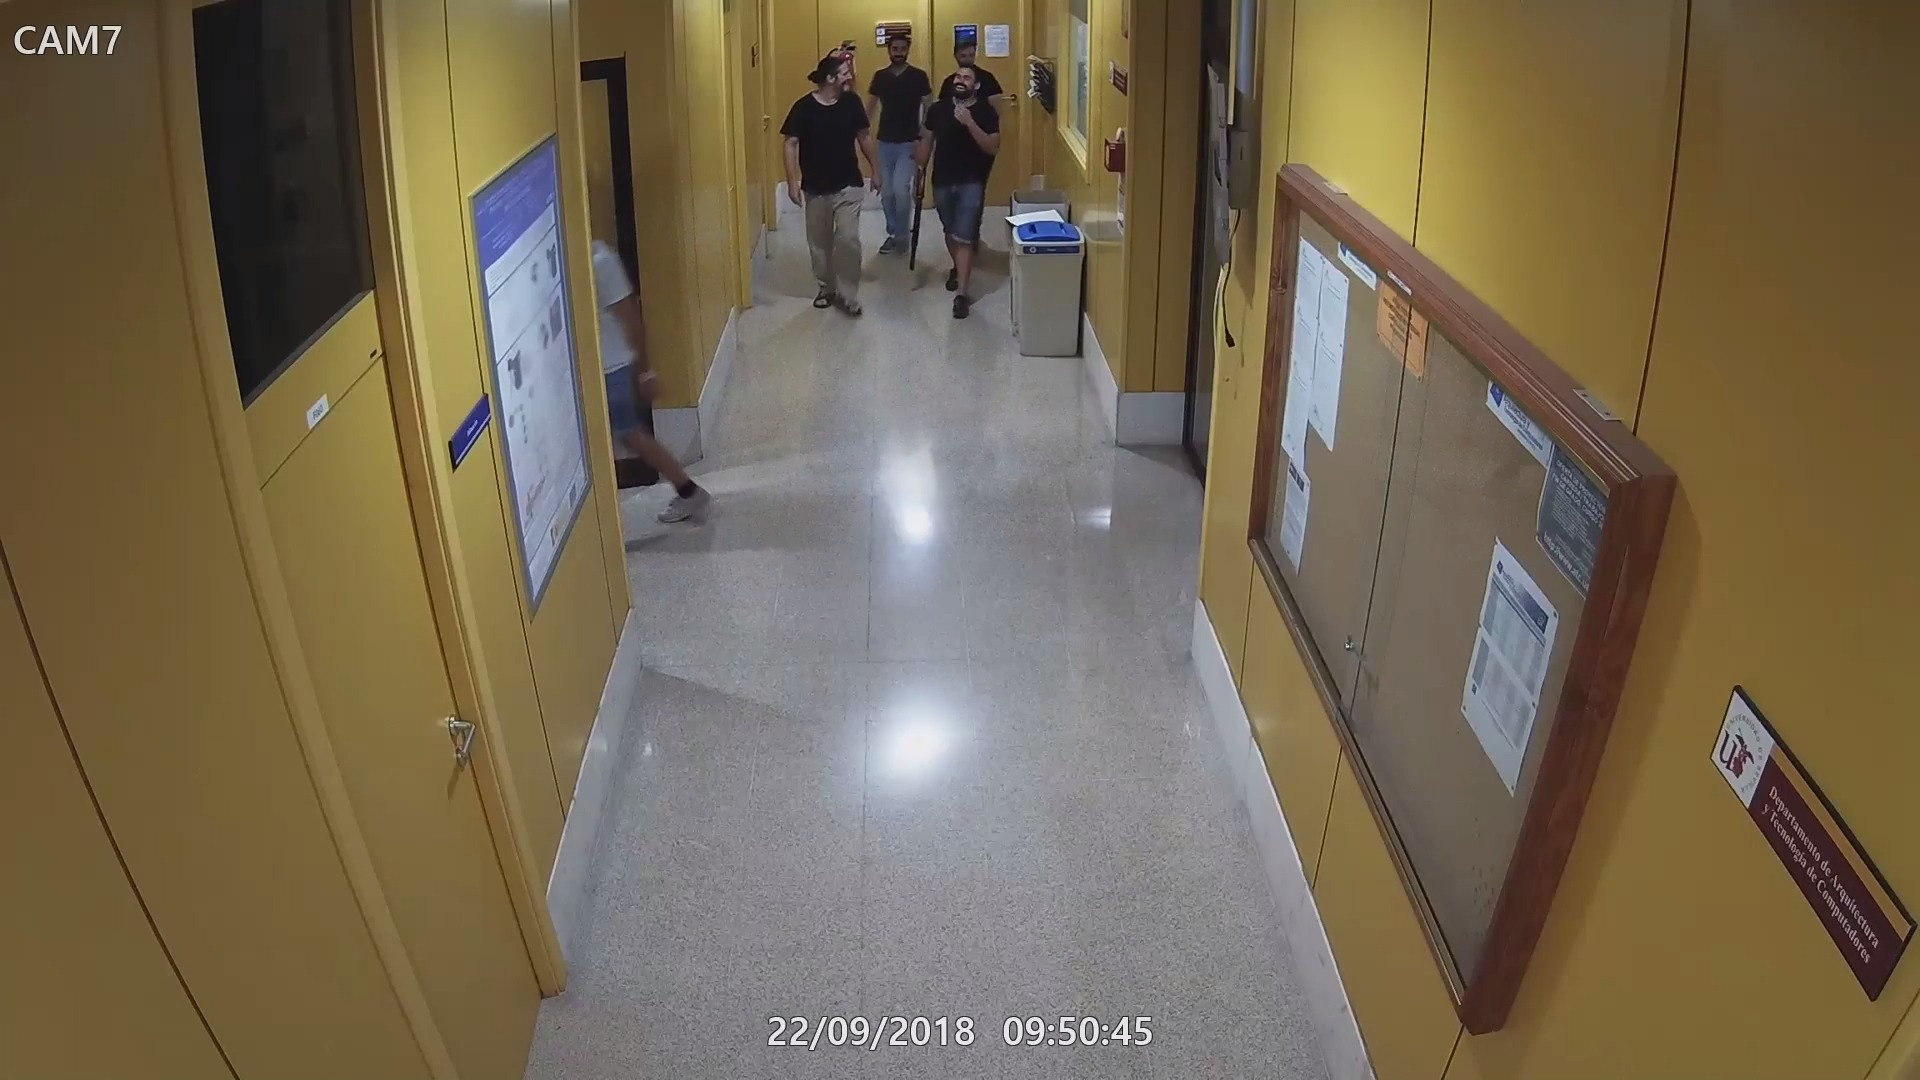rifle: (906, 158, 931, 269)
